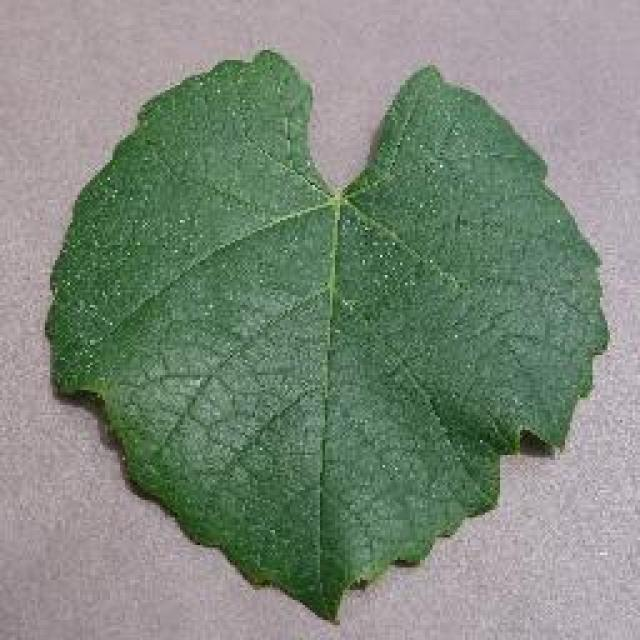Grape___healthy: (45, 50, 605, 618)
